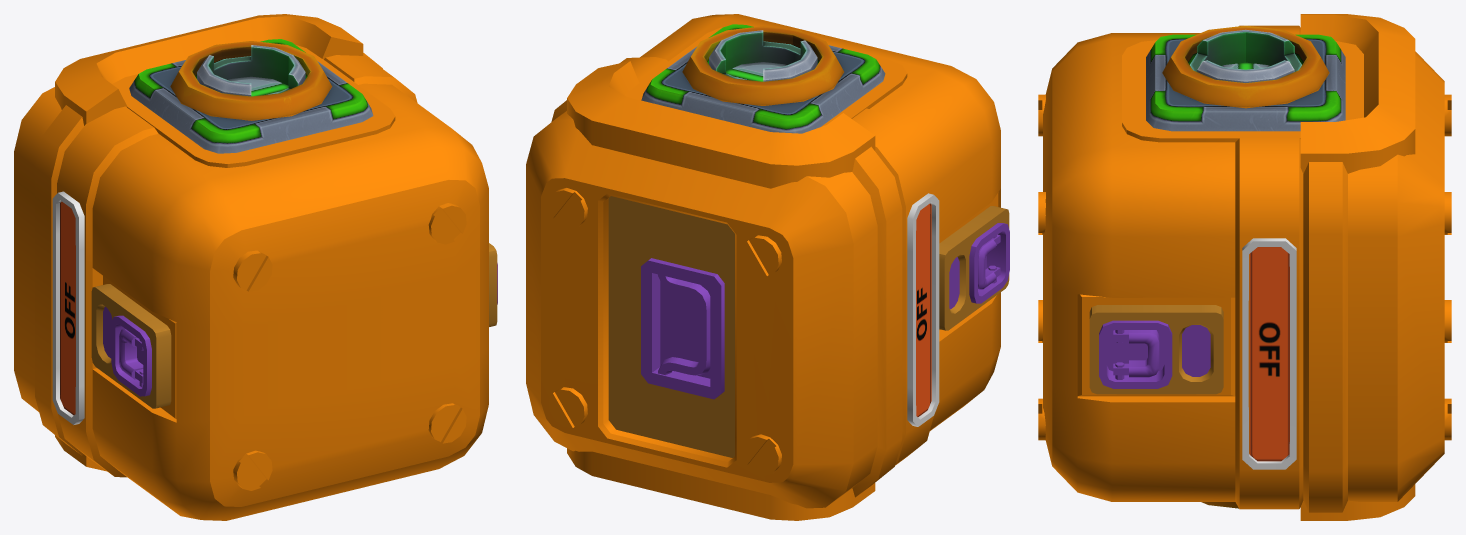
The model's file is fant_smart_chest.fbx.
3 views of the same model, side by side, from view 1: azimuth 30°, elevation 25°; view 2: azimuth 150°, elevation 25°; view 3: azimuth 270°, elevation 25° (orthographic). The views are drawn at different scales.
Visible parts, largest first — view 1: fant_smart_chest; view 2: fant_smart_chest; view 3: fant_smart_chest.
Part boxes in pixels (x1,y1,x2,y2): fant_smart_chest: [14, 14, 497, 520]; fant_smart_chest: [526, 14, 1009, 520]; fant_smart_chest: [1038, 14, 1451, 520].
Size of the model in its own units: 314 by 357 by 309.
